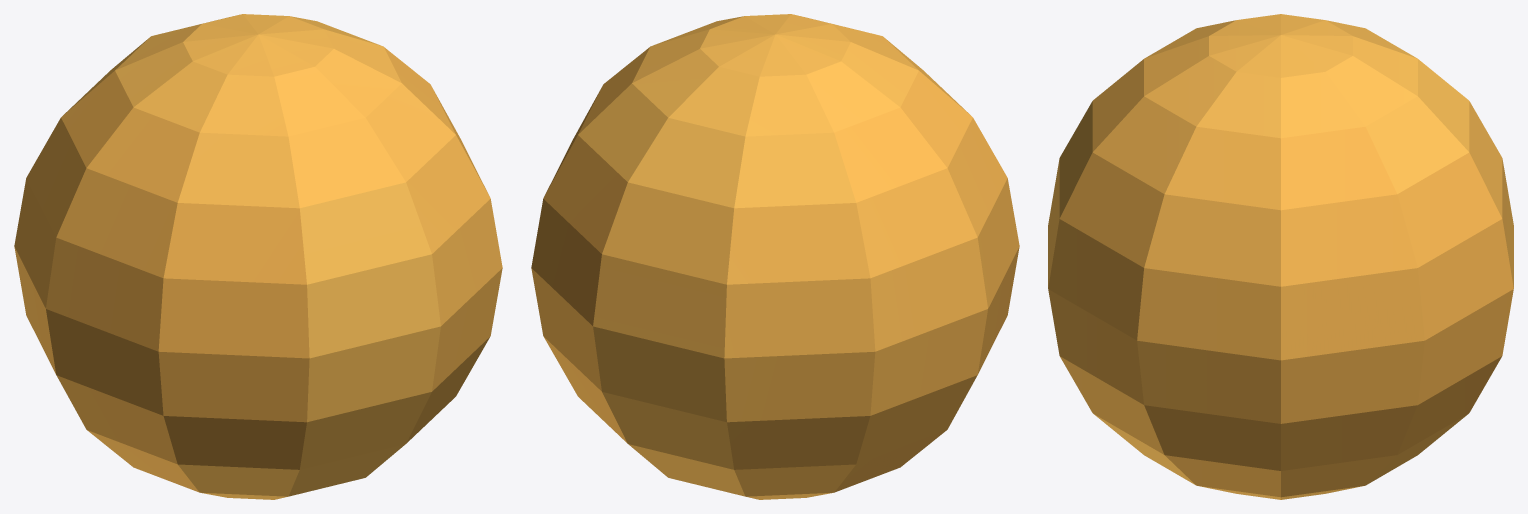
Rendered from item.fbx.
3 renders of one model, left to right at view 1: azimuth 30°, elevation 25°; view 2: azimuth 150°, elevation 25°; view 3: azimuth 270°, elevation 25°, orthographic.
Parts seen in each view (by area): view 1: pSphere1; view 2: pSphere1; view 3: pSphere1.
Boxes of the visible parts, bbox=[...] form: pSphere1: bbox=[14, 14, 502, 499]; pSphere1: bbox=[531, 14, 1019, 499]; pSphere1: bbox=[1048, 14, 1513, 499].
Size of the model in its own units: 0.4173 by 0.4173 by 0.3969.
1 material, 1 textured.
